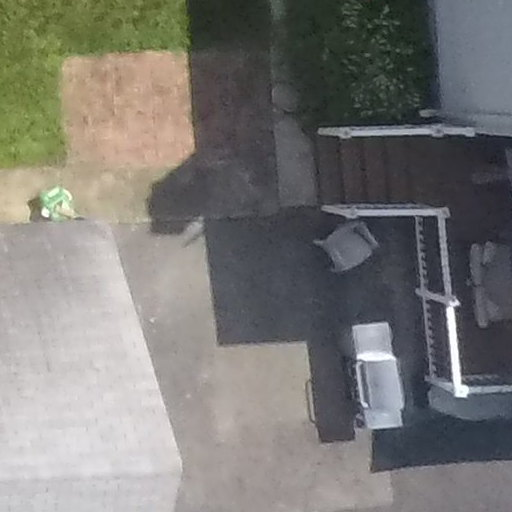barbecue: (338, 314, 411, 444)
hose: (34, 177, 75, 229)
porch: (313, 104, 512, 427)
